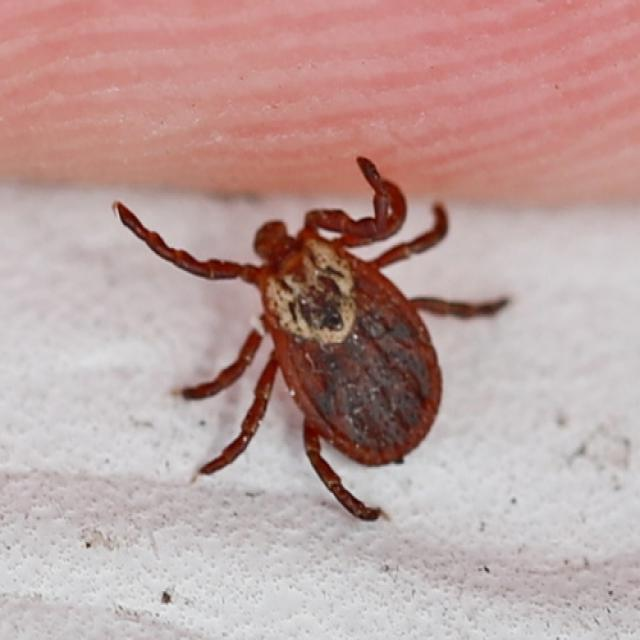Dermacentor Reticulatus-F: (115, 158, 506, 521)
